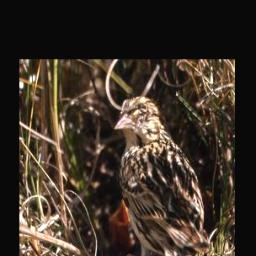Sparrow: (112, 95, 211, 256)
